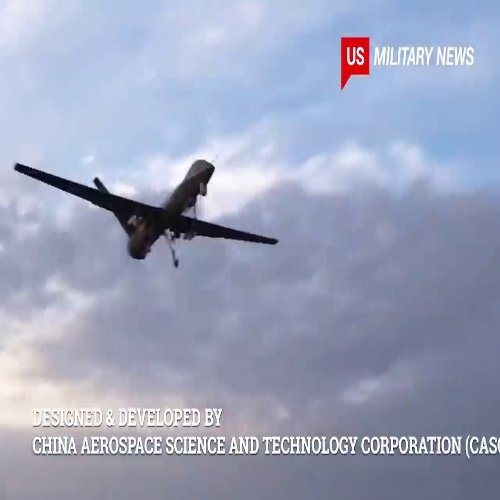uav: (13, 159, 279, 261)
